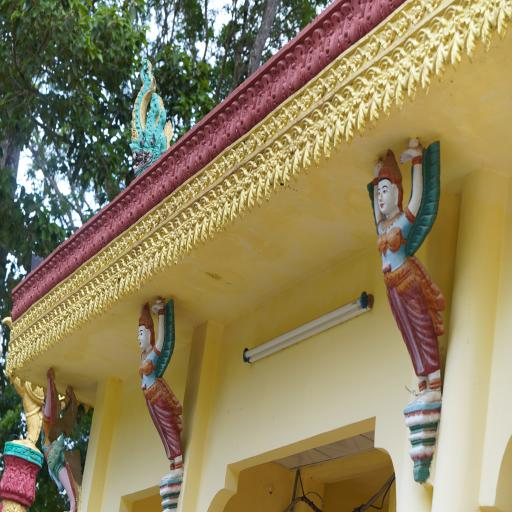ran: (124, 50, 178, 182)
than: (355, 120, 459, 488), (130, 295, 191, 512), (38, 358, 89, 512)
